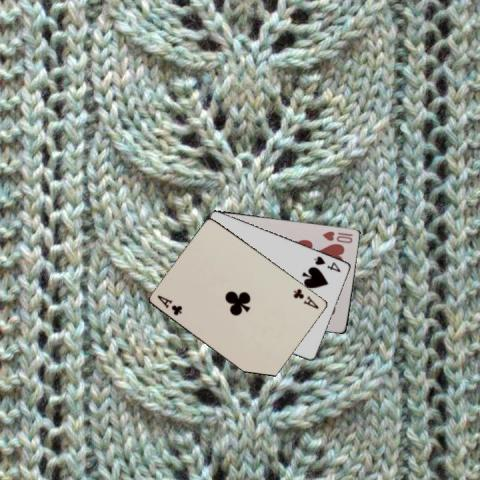10h: (319, 228, 355, 245)
4s: (311, 253, 342, 274)
Ac: (290, 285, 320, 311), (155, 292, 184, 317)
